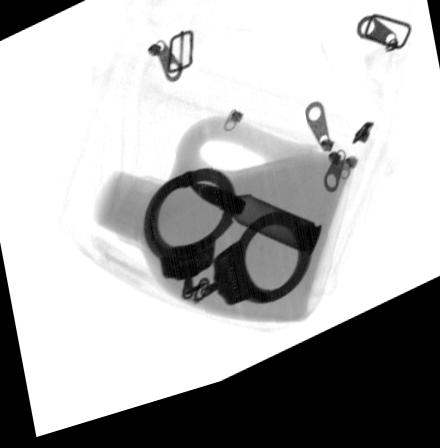Bullet: (187, 193, 323, 277)
HandCuffs: (143, 179, 312, 321)
